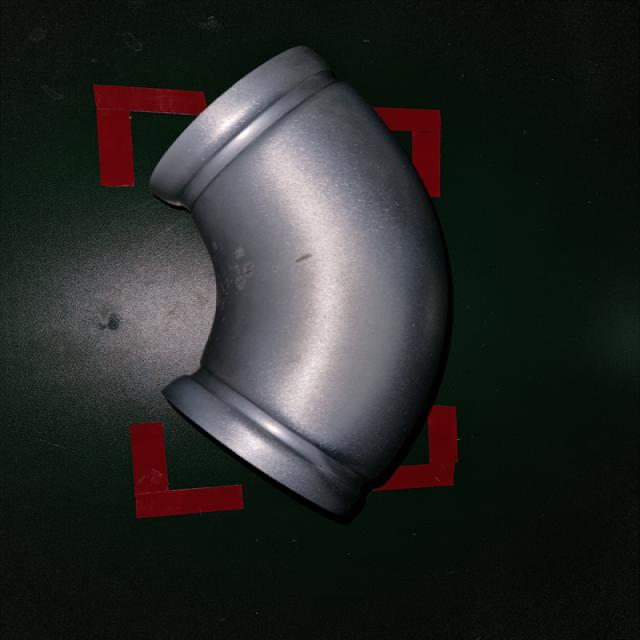Defect: (139, 39, 462, 522)
Hole: (207, 237, 330, 308)
